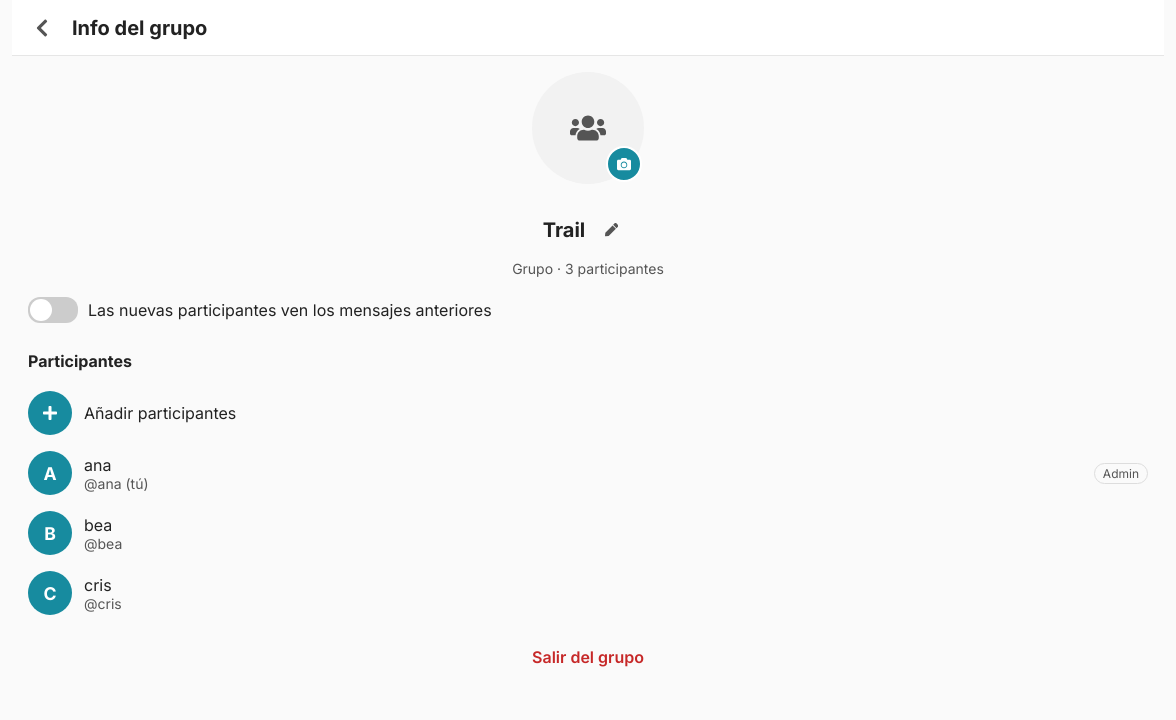
Test: GroupInfoPanel (T12, T29r) › lets an admin rename the group in place
Click the button named "Editar nombre del grupo": (611, 230) [589,208,633,252]
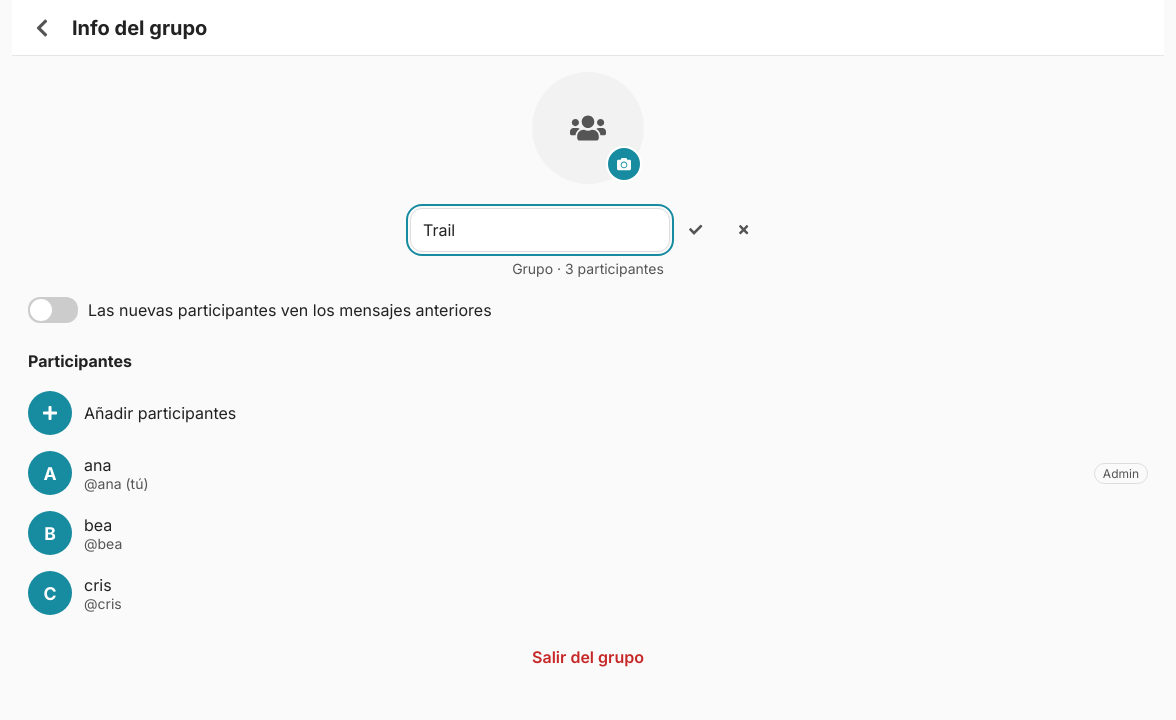
Replace the text in the field named "Nombre del grupo" with "Montaña": (540, 230) [410,208,670,252]
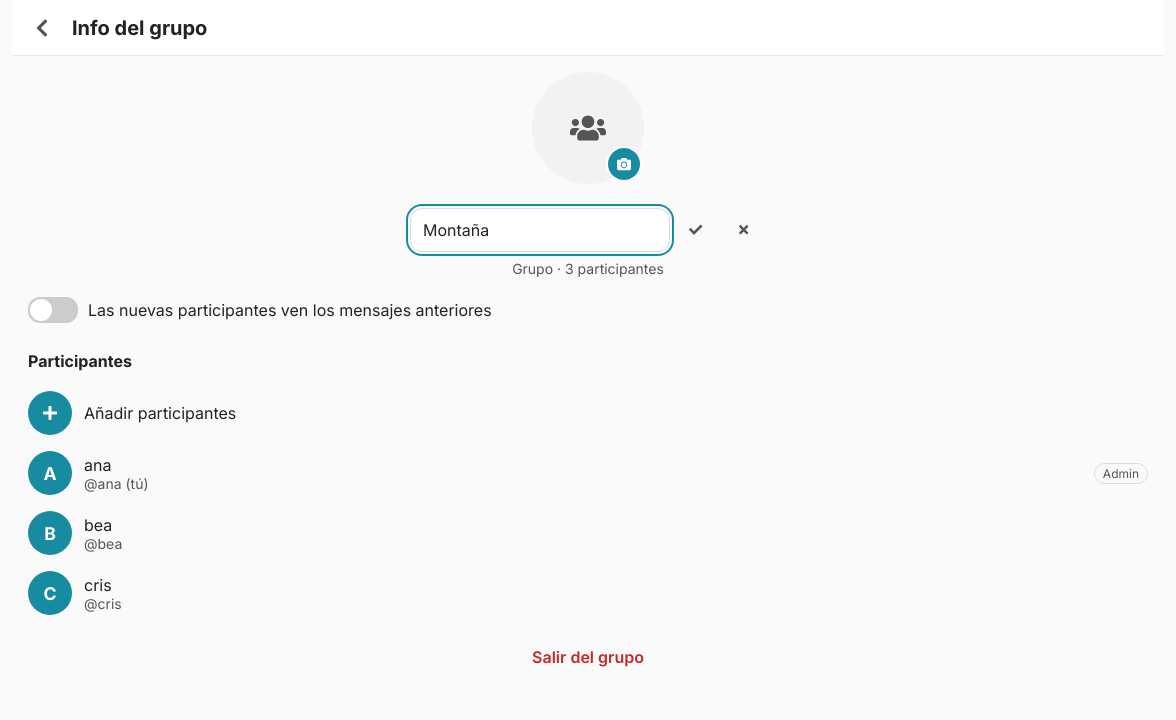
Click the button named "Guardar nombre": (696, 230) [674,208,718,252]
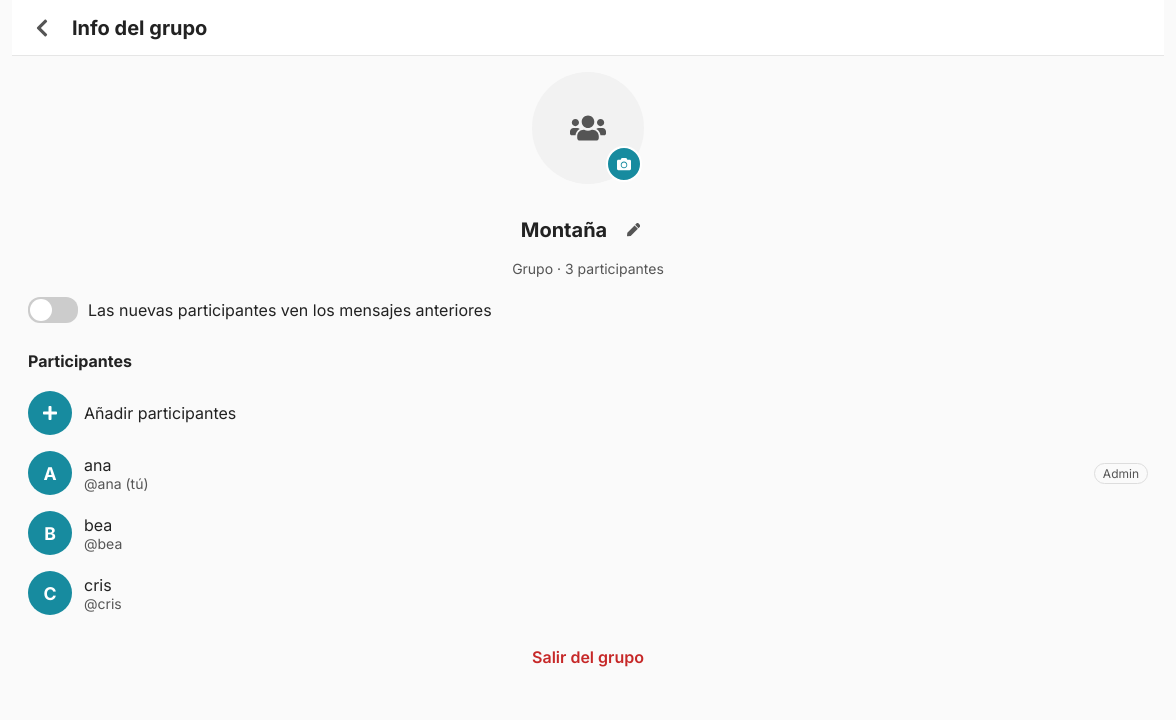
Expected: the heading "Montaña" is shown, [521,218,607,242]
